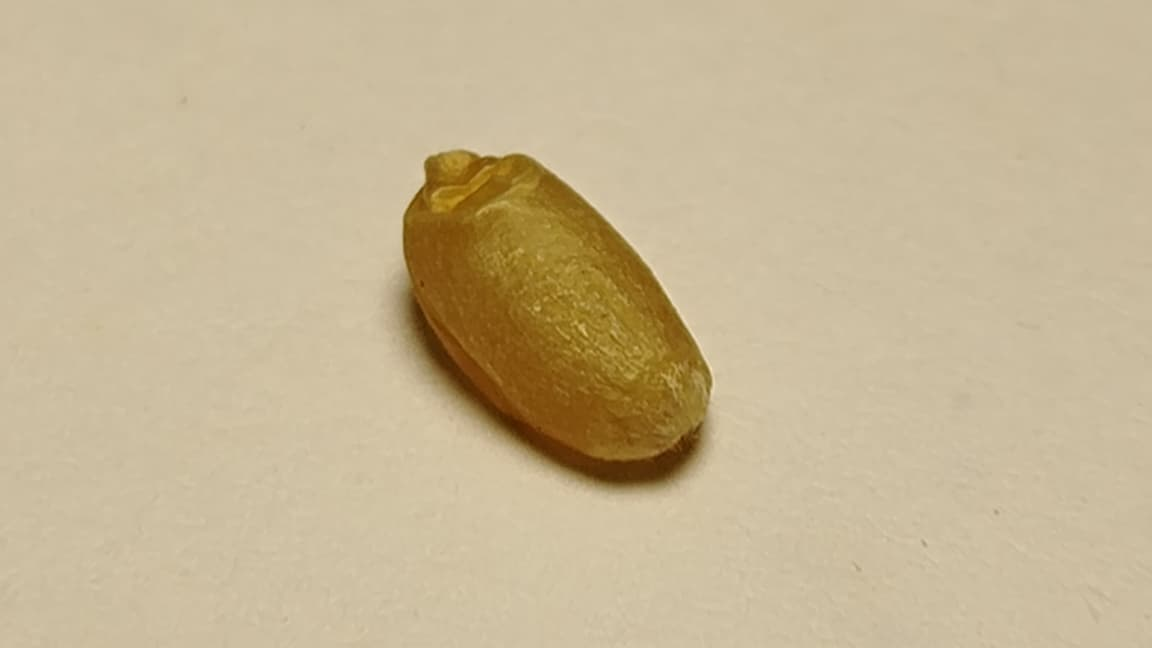healthy: (404, 150, 710, 459)
